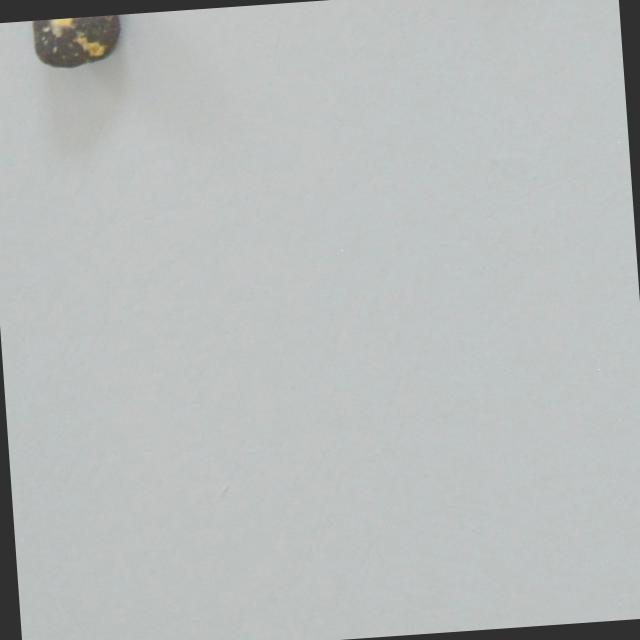cuerpos_extranos: (28, 13, 122, 72)
